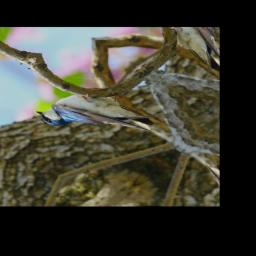Swallow: (32, 71, 169, 166)
